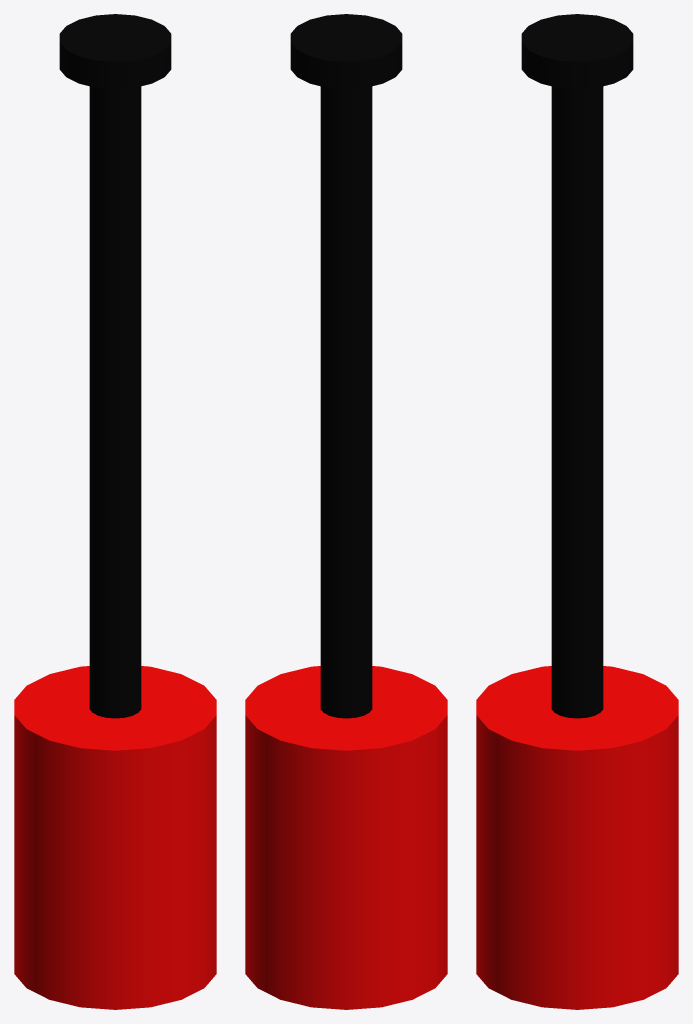
Rendered from Light.FBX.
3 views of the same model, side by side, from view 1: azimuth 30°, elevation 25°; view 2: azimuth 150°, elevation 25°; view 3: azimuth 270°, elevation 25° (orthographic).
Visible parts, largest first — view 1: Light; view 2: Light; view 3: Light.
Part boxes in pixels (x1=…): Light: x1=14, y1=14, x2=216, y2=1009; Light: x1=245, y1=14, x2=447, y2=1009; Light: x1=476, y1=14, x2=678, y2=1009.
Bounding box in the file's own units: 3.61 × 18.56 × 3.55.
